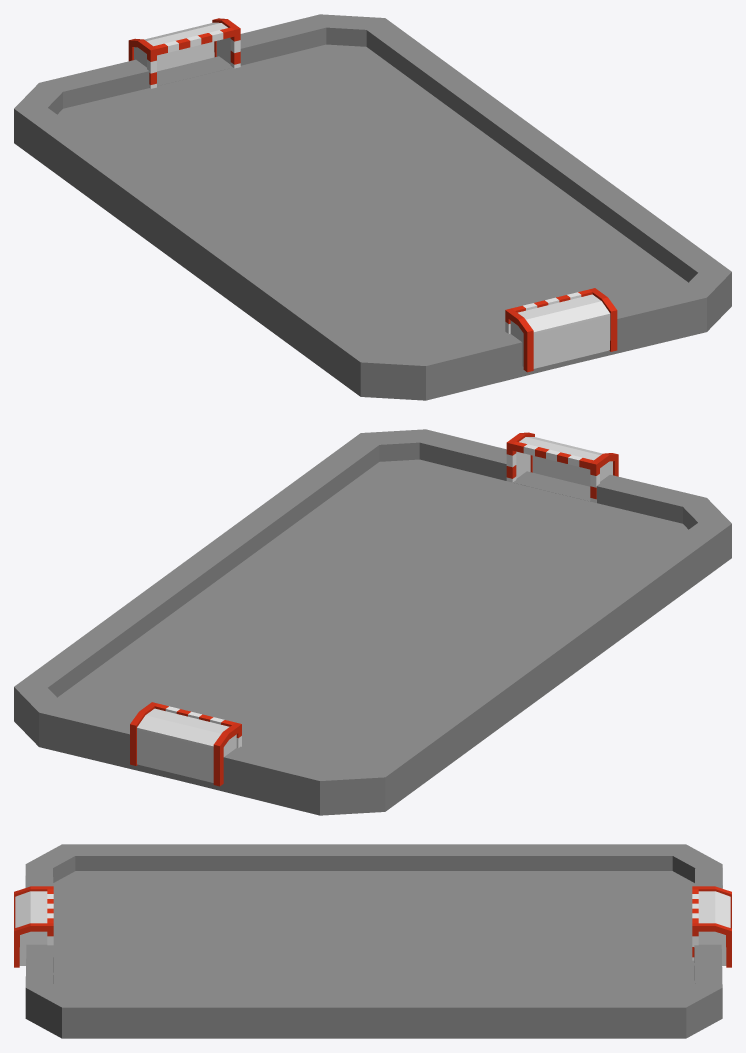
Rendered from Goal.fbx.
3 views of the same model, one above another, from view 1: azimuth 30°, elevation 25°; view 2: azimuth 150°, elevation 25°; view 3: azimuth 270°, elevation 25° (orthographic). The views are drawn at different scales.
Parts seen in each view (by area): view 1: Ground, Goal; view 2: Ground, Goal; view 3: Ground, Goal.
Boxes of the visible parts, box(x1,y1,x2,y2) form: Ground: box(14, 14, 731, 400); Goal: box(128, 18, 617, 372); Ground: box(14, 429, 731, 815); Goal: box(130, 432, 618, 786); Ground: box(25, 844, 722, 1038); Goal: box(14, 886, 731, 967).
Size of the model in its own units: 11.04 by 20.53 by 1.59.
